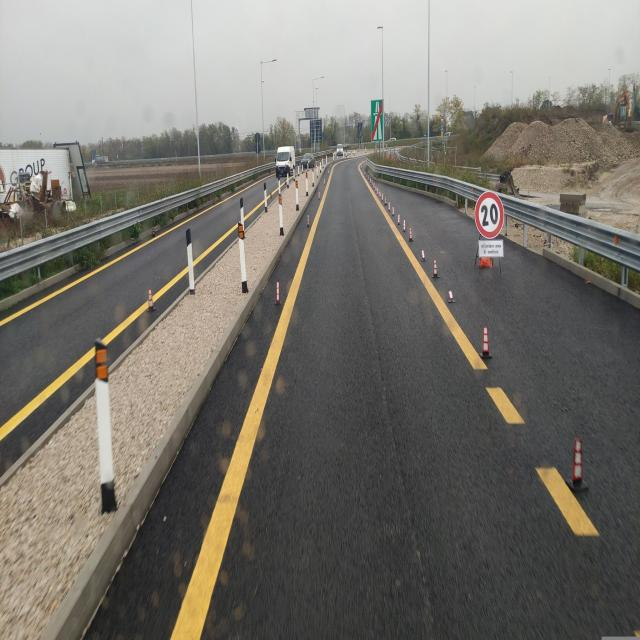car: (275, 144, 296, 180), (301, 151, 313, 170)
